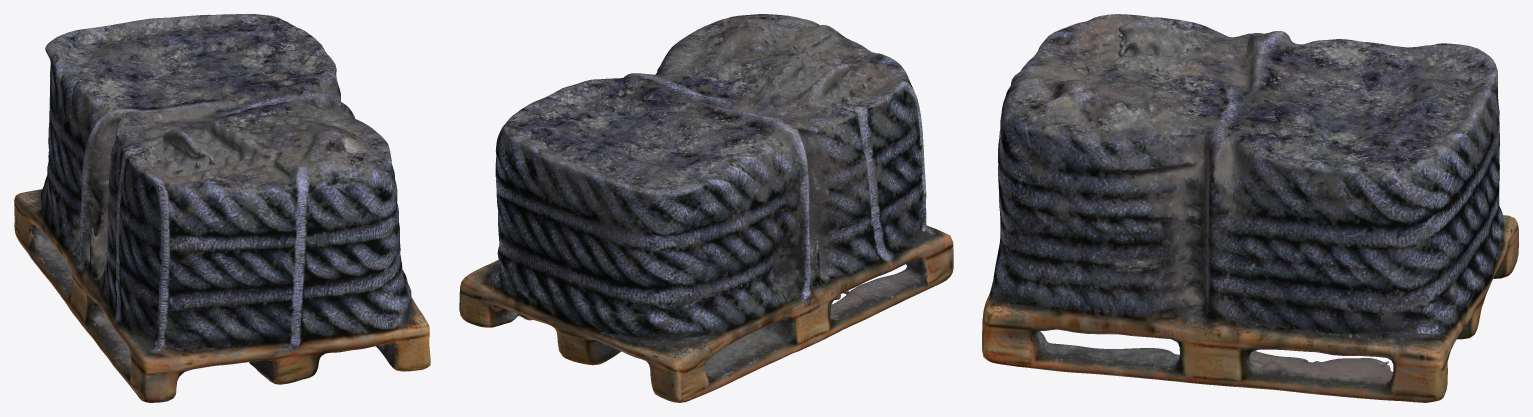
File: damaged_cable_roll_2.glb
3 views of the same model, side by side, from view 1: azimuth 30°, elevation 25°; view 2: azimuth 150°, elevation 25°; view 3: azimuth 270°, elevation 25° (orthographic). The views are drawn at different scales.
Visible parts, largest first — view 1: model; view 2: model; view 3: model.
Part boxes in pixels (x1,y1,x2,y2): model: [14, 14, 430, 402]; model: [459, 14, 953, 402]; model: [982, 14, 1518, 402].
Size of the model in its own units: 1.29 by 0.8309 by 1.62.
Materials: 1 (1 with a texture image).
